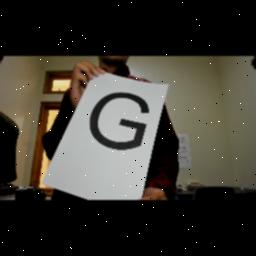g: (83, 84, 155, 158)
